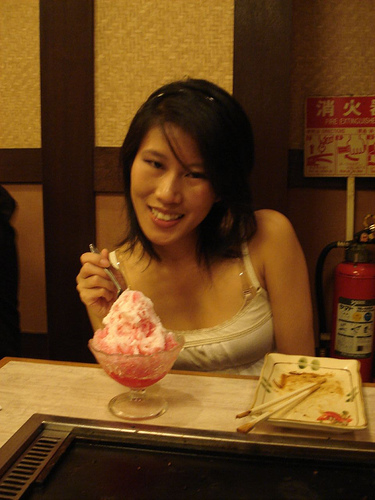without_mask: (125, 117, 220, 245)
